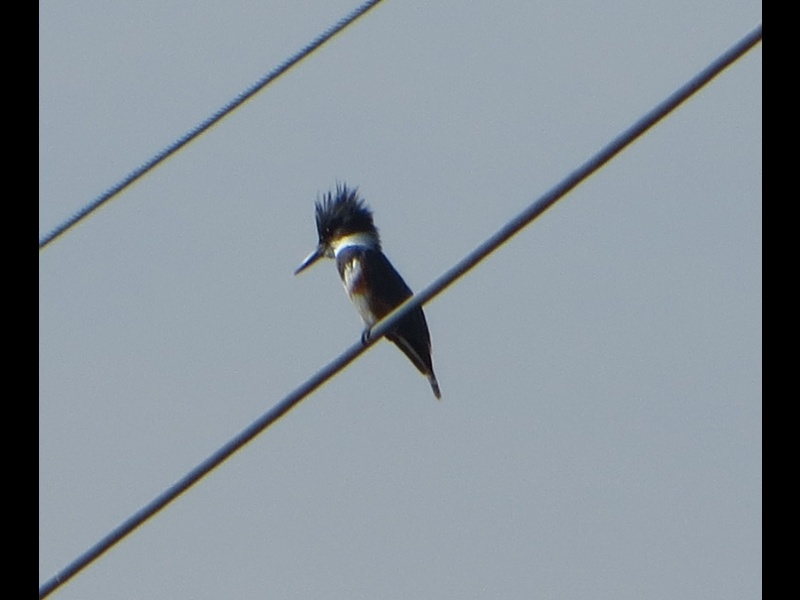kingfisher: (293, 180, 445, 402)
